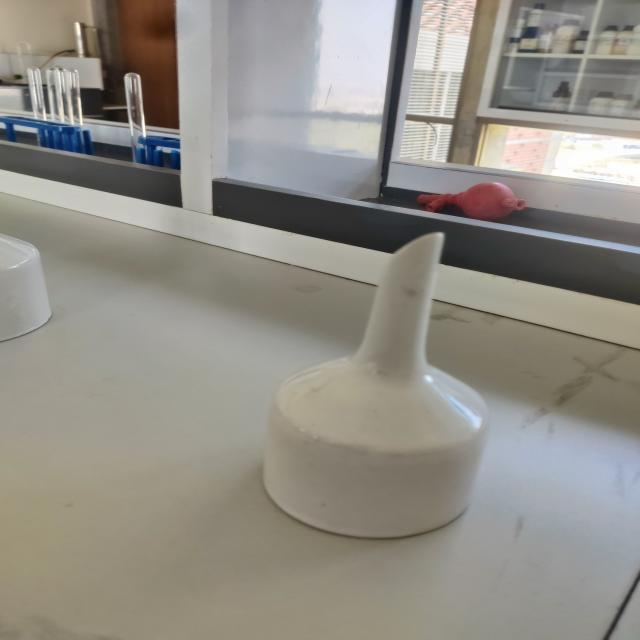Buchner_Funnel: (239, 210, 533, 566)
